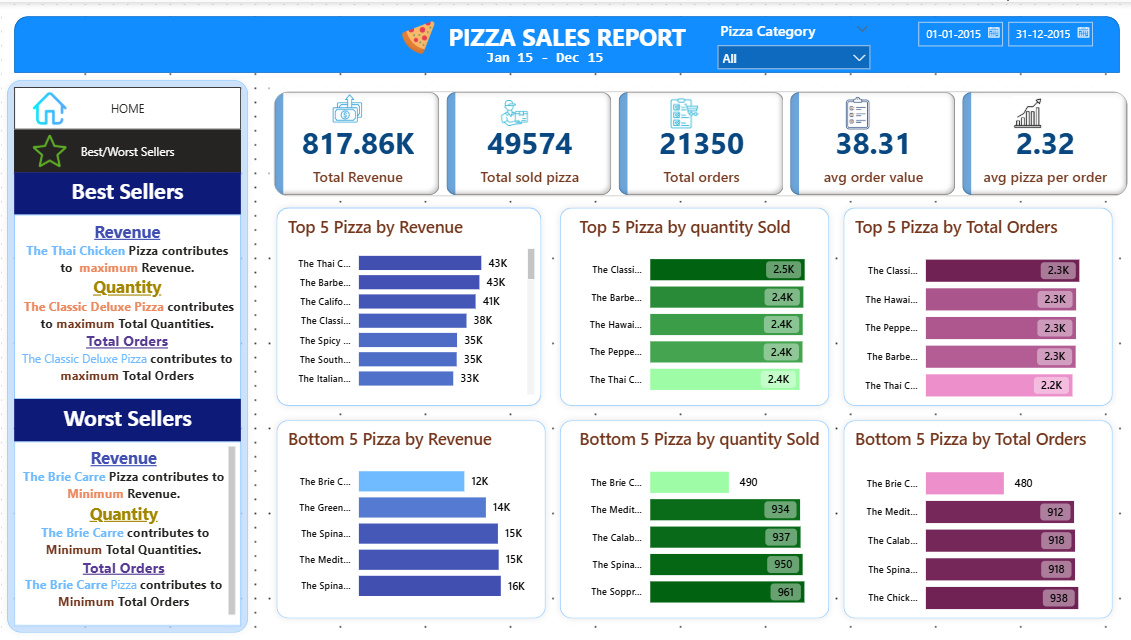

The page's visual inventory and layout, read from the dashboard file:
{"tool":"powerbi","page":{"name":"Best/Worst Sellers","canvas":[1280,720],"ordinal":1},"visuals":[{"type":"cardVisual","fields":{"Data":["pizza_sales.Total Revenue","pizza_sales.Total sold pizza","pizza_sales.Total orders","pizza_sales.avg order value","pizza_sales.avg pizza per order"]},"box":[304,96,976,128],"z":0},{"type":"shape","box":[16,16,1248,64],"z":1000},{"type":"textbox","box":[432,16,416,64],"z":2000},{"type":"textbox","box":[544,48,160,32],"z":3000},{"type":"image","box":[448,16,48,48],"z":4000},{"type":"image","box":[368,96,48,48],"z":5000},{"type":"image","box":[751,103,45,45],"z":6000},{"type":"image","box":[560,100,41,51],"z":7000},{"type":"image","box":[944,101,48,48],"z":8000},{"type":"image","box":[1136,101,48,48],"z":9000},{"type":"shape","box":[304,224,315,240],"z":10000},{"type":"shape","box":[0,80,288,640],"z":15000},{"type":"textbox","box":[16,192,256,48],"z":21000},{"type":"textbox","box":[16,240,256,208],"z":22000},{"type":"textbox","box":[16,448,256,48],"z":23000},{"type":"textbox","box":[16,496,256,208],"z":24000},{"type":"slicer","fields":{"Values":["pizza_sales.pizza_category"]},"box":[800,16,192,64],"z":25000},{"type":"slicer","fields":{"Values":["pizza_sales.order_date"]},"box":[1024,12,224,67],"z":26000},{"type":"shape","box":[624,224,320,240],"z":26001},{"type":"shape","box":[944,224,320,240],"z":26002},{"type":"shape","box":[304,464,320,240],"z":26003},{"type":"shape","box":[624,464,320,240],"z":26004},{"type":"shape","box":[944,464,320,240],"z":26005},{"type":"barChart","title":"Top 5 Pizza by Revenue","fields":{"Category":["pizza_sales.pizza_name"],"Y":["pizza_sales.Total Revenue"]},"box":[320,240,288,208],"z":26006},{"type":"barChart","title":"Bottom 5 Pizza by Revenue","fields":{"Category":["pizza_sales.pizza_name"],"Y":["pizza_sales.Total Revenue"]},"box":[320,480,288,208],"z":26007},{"type":"barChart","title":"Top 5 Pizza by quantity Sold","fields":{"Category":["pizza_sales.pizza_name"],"Y":["pizza_sales.Total sold pizza"]},"box":[648,240,288,216],"z":26008},{"type":"barChart","title":"Bottom 5 Pizza by quantity Sold","fields":{"Category":["pizza_sales.pizza_name"],"Y":["pizza_sales.Total sold pizza"]},"box":[648,480,288,216],"z":26009},{"type":"barChart","title":"Top 5 Pizza by Total Orders","fields":{"Category":["pizza_sales.pizza_name"],"Y":["pizza_sales.Total orders"]},"box":[960,240,288,224],"z":26010},{"type":"barChart","title":"Bottom 5 Pizza by Total Orders","fields":{"Category":["pizza_sales.pizza_name"],"Y":["pizza_sales.Total orders"]},"box":[960,480,288,224],"z":26011},{"type":"pageNavigator","box":[16,144,256,48],"z":26012},{"type":"pageNavigator","box":[16,96,256,48],"z":26013},{"type":"image","box":[32,96,48,48],"z":26014},{"type":"image","box":[32,144,48,48],"z":26015}]}

Visuals, with their boxes in screenshot pixels (x1, y1, x2, y2), scaled from the page's 1280x720 canvas onto the 1131x640 screenshot:
cardVisual - pizza_sales.Total Revenue x pizza_sales.Total sold pizza: bbox=(269, 85, 1130, 199)
shape: bbox=(14, 14, 1117, 71)
textbox: bbox=(382, 14, 749, 71)
textbox: bbox=(481, 43, 622, 71)
image: bbox=(396, 14, 438, 57)
image: bbox=(325, 85, 368, 128)
image: bbox=(664, 92, 703, 132)
image: bbox=(495, 89, 531, 134)
image: bbox=(834, 90, 877, 132)
image: bbox=(1004, 90, 1046, 132)
shape: bbox=(269, 199, 547, 412)
shape: bbox=(0, 71, 254, 639)
textbox: bbox=(14, 171, 240, 213)
textbox: bbox=(14, 213, 240, 398)
textbox: bbox=(14, 398, 240, 441)
textbox: bbox=(14, 441, 240, 626)
slicer - pizza_sales.pizza_category: bbox=(707, 14, 877, 71)
slicer - pizza_sales.order_date: bbox=(905, 11, 1103, 70)
shape: bbox=(551, 199, 834, 412)
shape: bbox=(834, 199, 1117, 412)
shape: bbox=(269, 412, 551, 626)
shape: bbox=(551, 412, 834, 626)
shape: bbox=(834, 412, 1117, 626)
"Top 5 Pizza by Revenue" barChart: bbox=(283, 213, 537, 398)
"Bottom 5 Pizza by Revenue" barChart: bbox=(283, 427, 537, 612)
"Top 5 Pizza by quantity Sold" barChart: bbox=(573, 213, 827, 405)
"Bottom 5 Pizza by quantity Sold" barChart: bbox=(573, 427, 827, 619)
"Top 5 Pizza by Total Orders" barChart: bbox=(848, 213, 1103, 412)
"Bottom 5 Pizza by Total Orders" barChart: bbox=(848, 427, 1103, 626)
pageNavigator: bbox=(14, 128, 240, 171)
pageNavigator: bbox=(14, 85, 240, 128)
image: bbox=(28, 85, 71, 128)
image: bbox=(28, 128, 71, 171)
